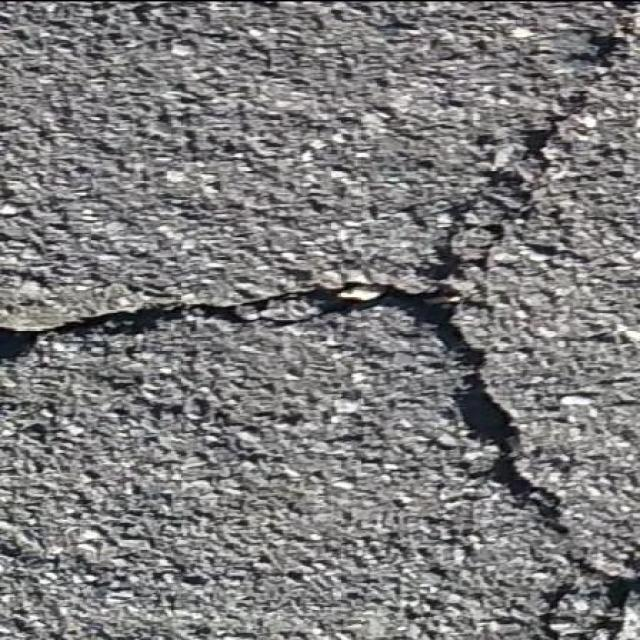Crack: (0, 280, 558, 528), (425, 20, 629, 281), (538, 542, 639, 640), (614, 2, 636, 8)
